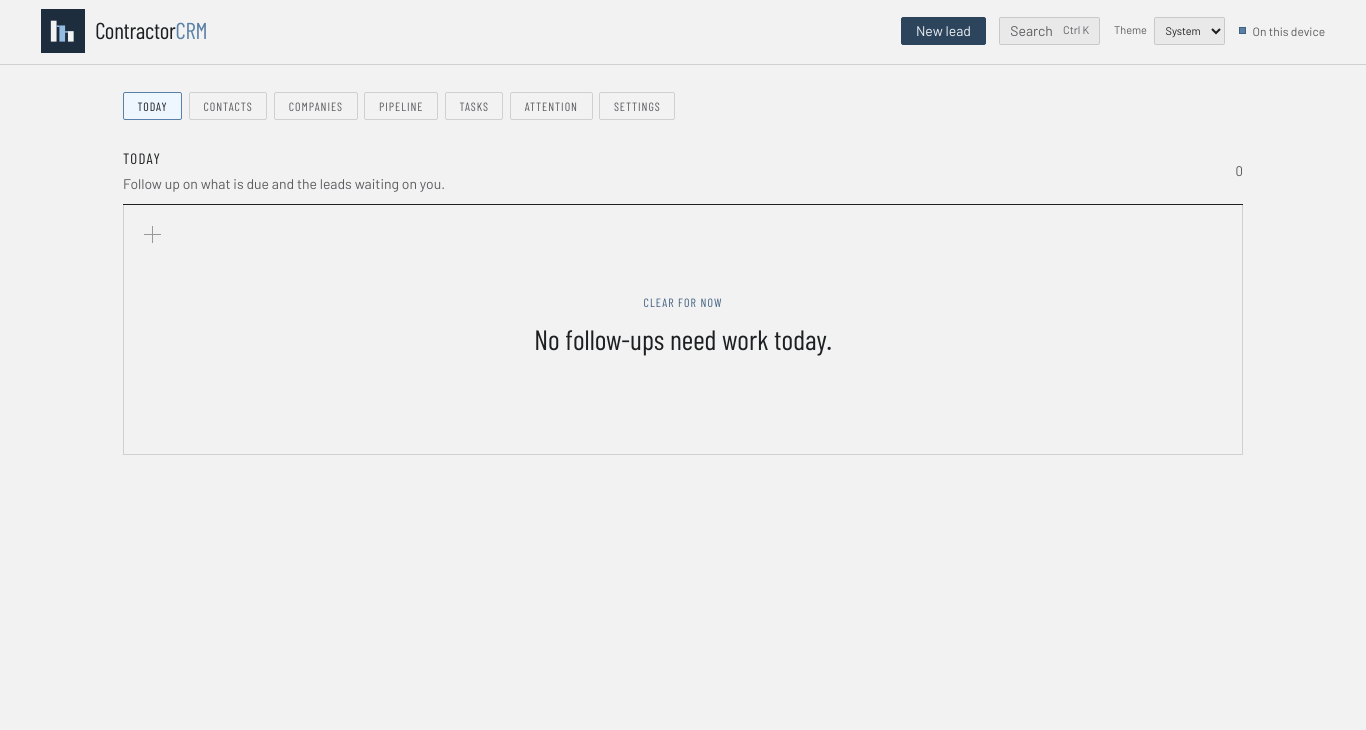
Test: AI assistant settings › reports the endpoint and model after a connection test
Click the button "Settings".
click(637, 106)  # box [599,92,675,120]
(page scrolled)
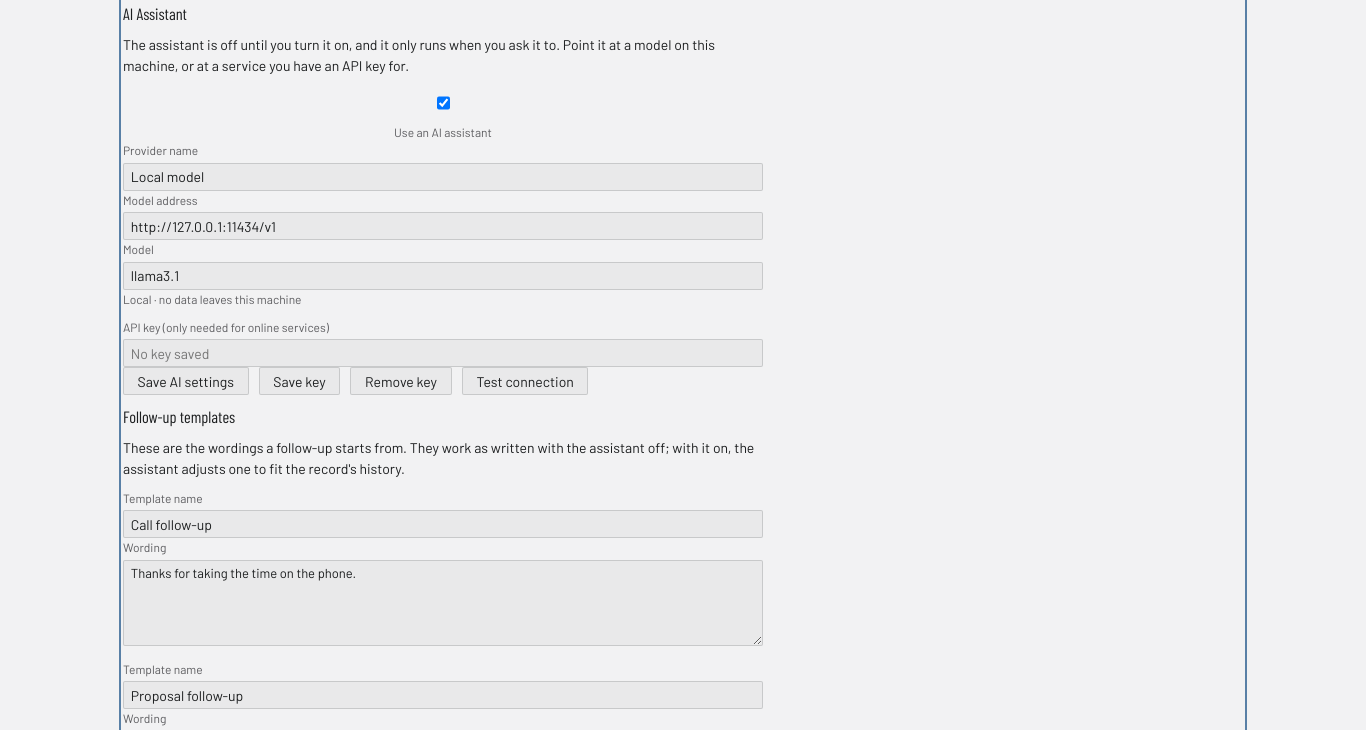
Click the button "Test connection".
click(525, 381)  # box [462,367,588,395]
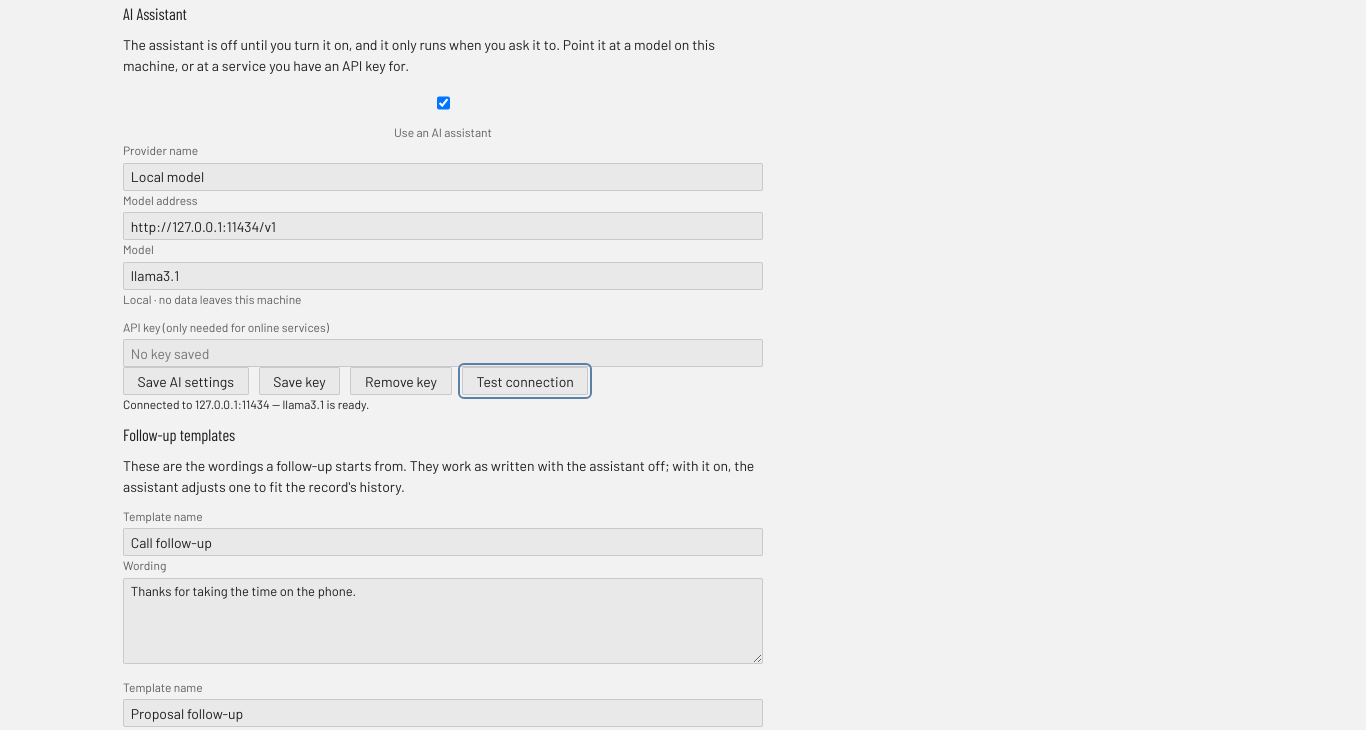
Now the text "Connected to 127.0.0.1:11434 — llama3.1 is ready." is shown, box [123,397,369,411]
